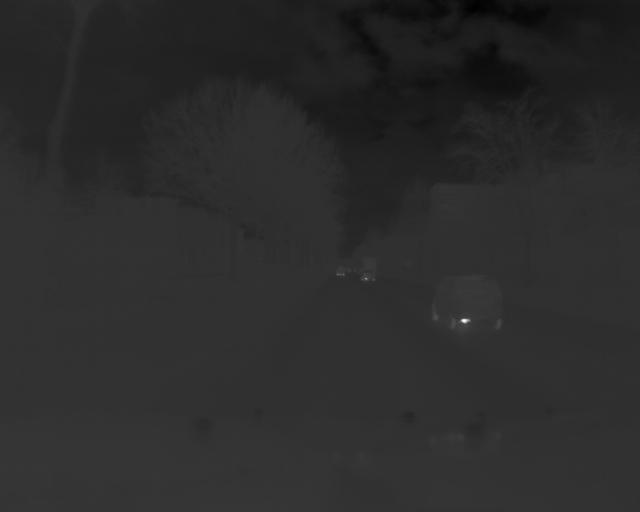car: (428, 275, 505, 336)
